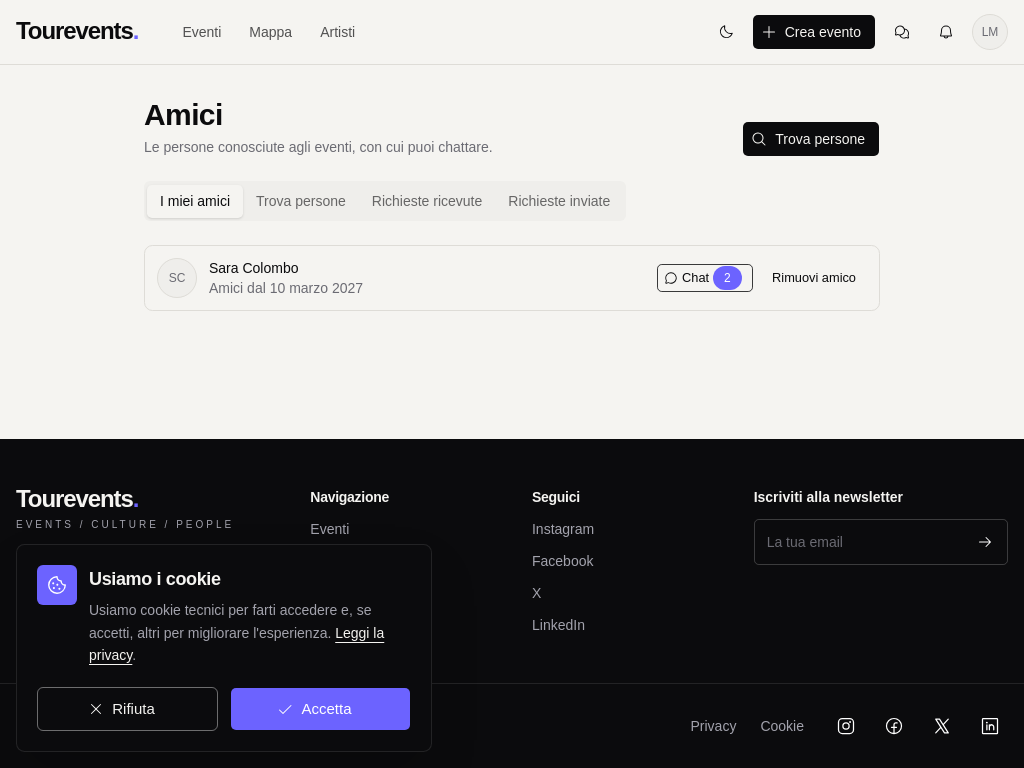
Test: FriendsPage: amici › "Rimuovi" chiede conferma, cancella l’amicizia e rilegge la lista
Step 1. Click the button with aria-label "Rimuovi Sara Colombo dagli amici" → (814, 278), box [761,264,867,292]
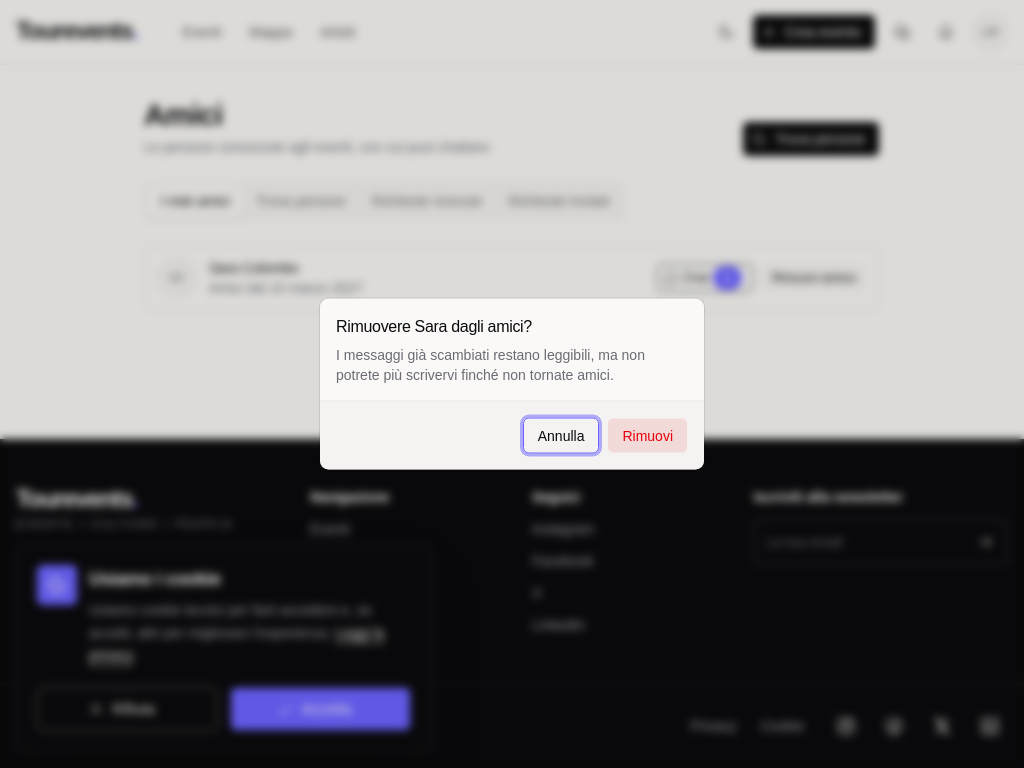
Step 2. Click the button "Rimuovi" → (648, 436), box [607,418,688,454]
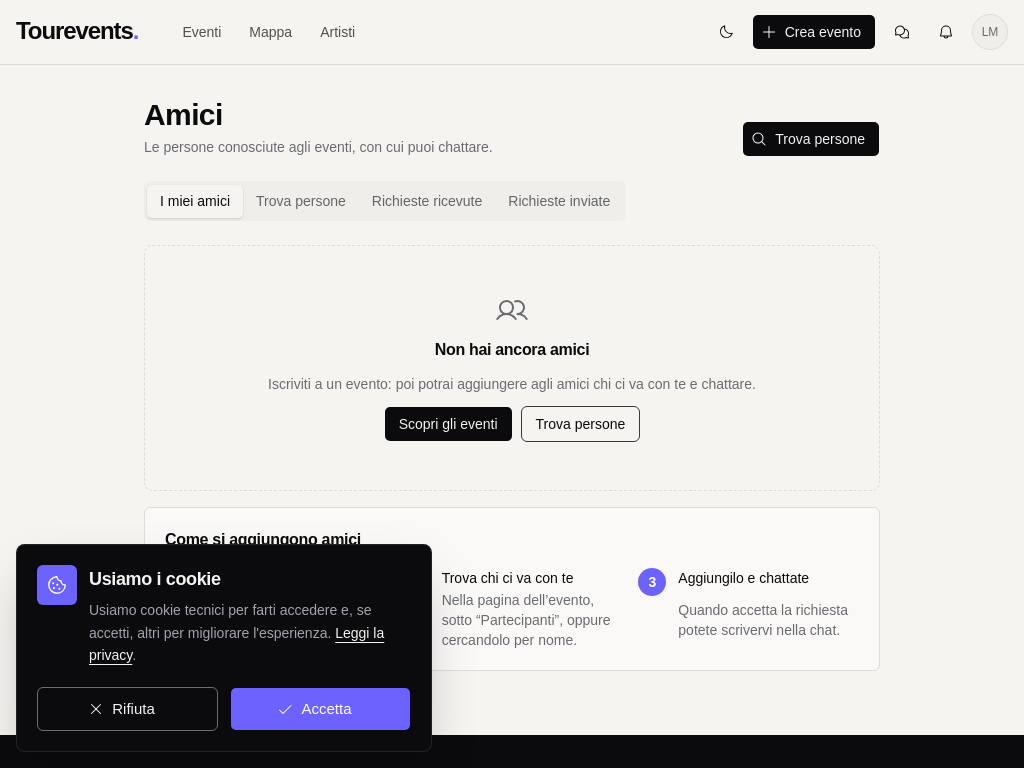
Expected: the heading "Non hai ancora amici" is shown, [435,338,589,362]
